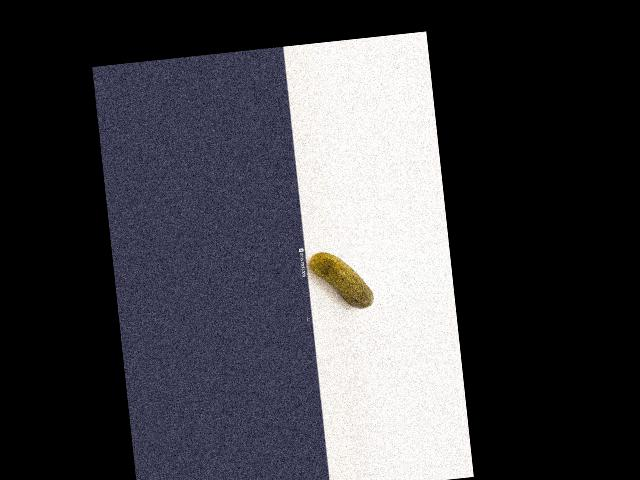cucumber: (308, 247, 374, 314)
